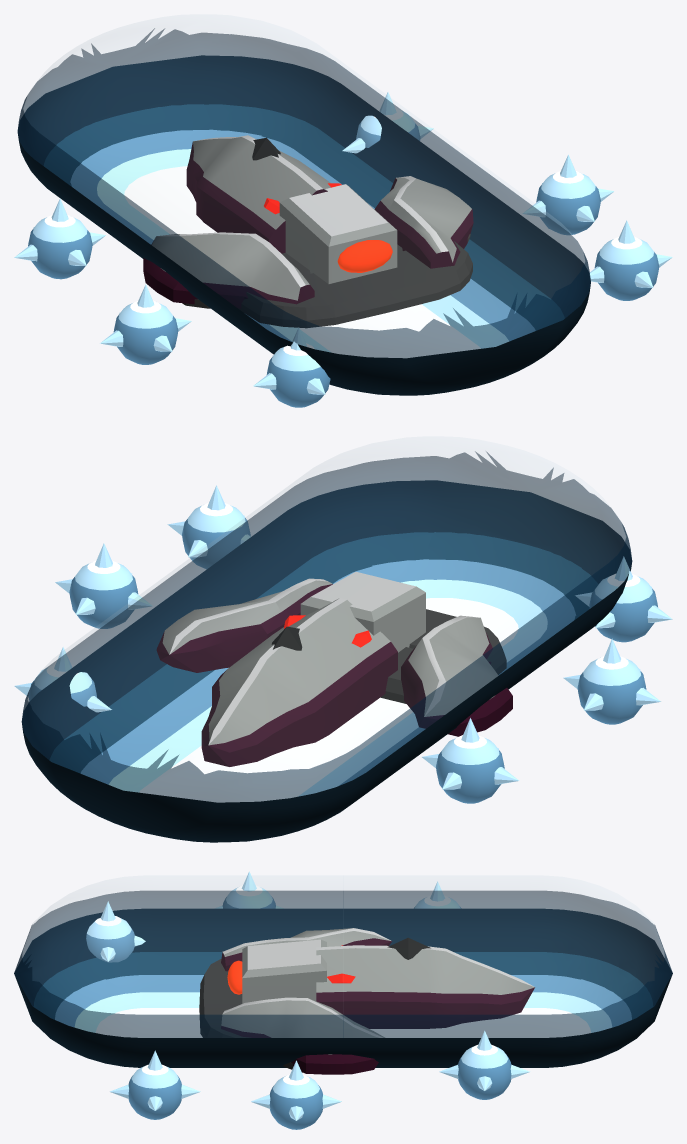
File: pu_minefield.glb
3 renders of one model, top to bottom at view 1: azimuth 30°, elevation 25°; view 2: azimuth 150°, elevation 25°; view 3: azimuth 270°, elevation 25°, orthographic. The views are drawn at different scales.
Visible parts, largest first — view 1: cradle, lid, cradle_out, spire, blade_left, base_rear, block, blade_right, mine0, mine2, mine4, mine3 (+3 smaller); view 2: cradle, lid, spire, cradle_out, blade_left, blade_right, block, mine0, mine2, mine3, mine4, mine5 (+3 smaller); view 3: cradle, lid, cradle_out, spire, blade_right, block, mine4, mine1, mine3, base_rear, blade_left, mine5 (+4 smaller).
Part boxes in pixels (<box>): cradle: <box>17,55,590,358</box>; lid: <box>17,15,590,358</box>; cradle_out: <box>17,133,590,395</box>; spire: <box>186,135,330,253</box>; blade_left: <box>143,232,314,308</box>; base_rear: <box>238,241,472,328</box>; block: <box>279,184,397,283</box>; blade_right: <box>374,176,473,268</box>; mine0: <box>28,214,92,279</box>; mine2: <box>113,300,178,364</box>; mine4: <box>594,236,659,300</box>; mine3: <box>536,170,600,234</box>; cradle: <box>21,480,632,802</box>; lid: <box>21,437,632,802</box>; spire: <box>201,598,397,766</box>; cradle_out: <box>22,564,631,842</box>; blade_left: <box>401,615,512,736</box>; blade_right: <box>156,578,332,672</box>; block: <box>300,572,425,652</box>; mine0: <box>436,735,504,803</box>; mine2: <box>577,656,646,724</box>; mine3: <box>69,560,138,628</box>; mine4: <box>182,502,250,568</box>; mine5: <box>589,574,657,642</box>; cradle: <box>14,908,672,1037</box>; lid: <box>14,875,672,1037</box>; cradle_out: <box>14,975,672,1067</box>; spire: <box>316,945,534,1028</box>; blade_right: <box>221,997,384,1074</box>; block: <box>242,939,326,1003</box>; mine4: <box>128,1064,181,1119</box>; mine1: <box>458,1044,511,1099</box>; mine3: <box>269,1074,322,1129</box>; base_rear: <box>199,958,250,1037</box>; blade_left: <box>221,928,391,971</box>; mine5: <box>86,916,134,962</box>.
Size of the model in its own units: 22.9 by 6.7 by 28.
